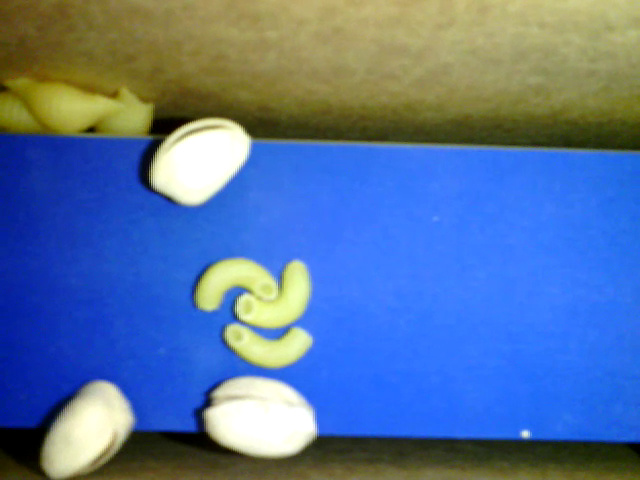elbow: (235, 259, 310, 327), (219, 321, 316, 370), (194, 255, 276, 310)
shell: (3, 69, 123, 135), (90, 85, 152, 135), (1, 97, 62, 139)
